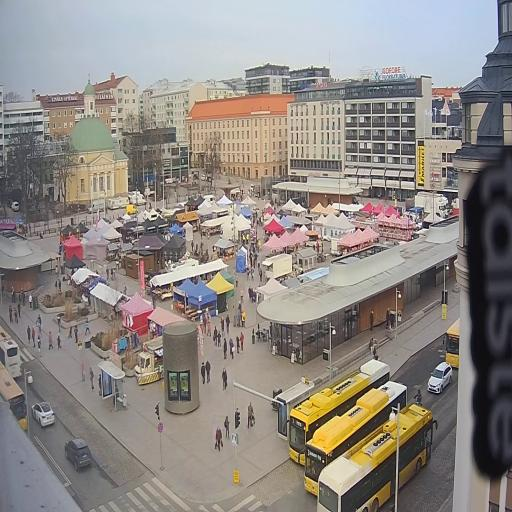bus: (317, 403, 437, 512), (305, 381, 407, 495), (288, 361, 390, 465), (0, 362, 27, 430), (0, 326, 21, 376), (444, 318, 459, 368)
car: (65, 438, 91, 471), (428, 362, 452, 393), (31, 402, 55, 426)
delivery: (134, 337, 163, 384), (415, 192, 450, 218)
two-wheels: (414, 388, 422, 406)
